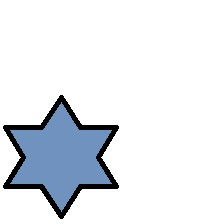star: (3, 95, 119, 220)
